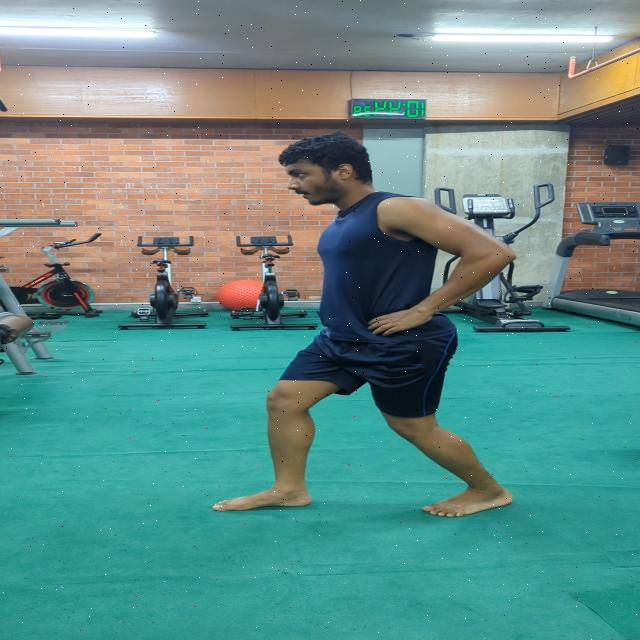Normal_Lunges: (207, 132, 525, 522)
